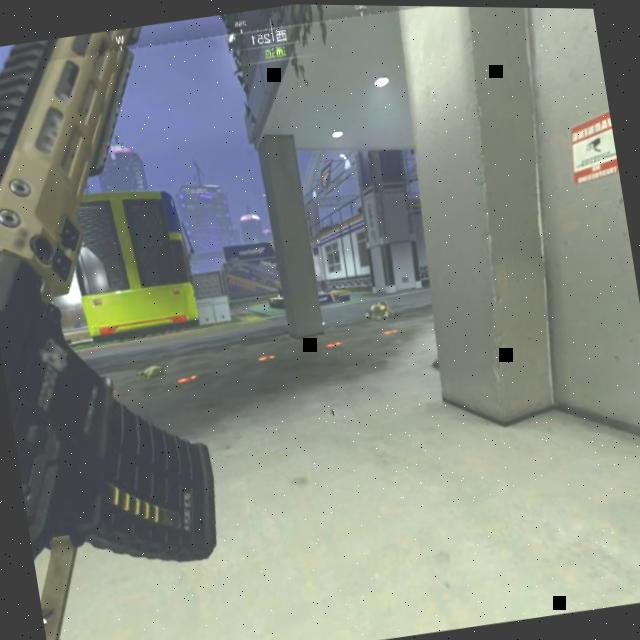MW2_body: (360, 297, 398, 324)
